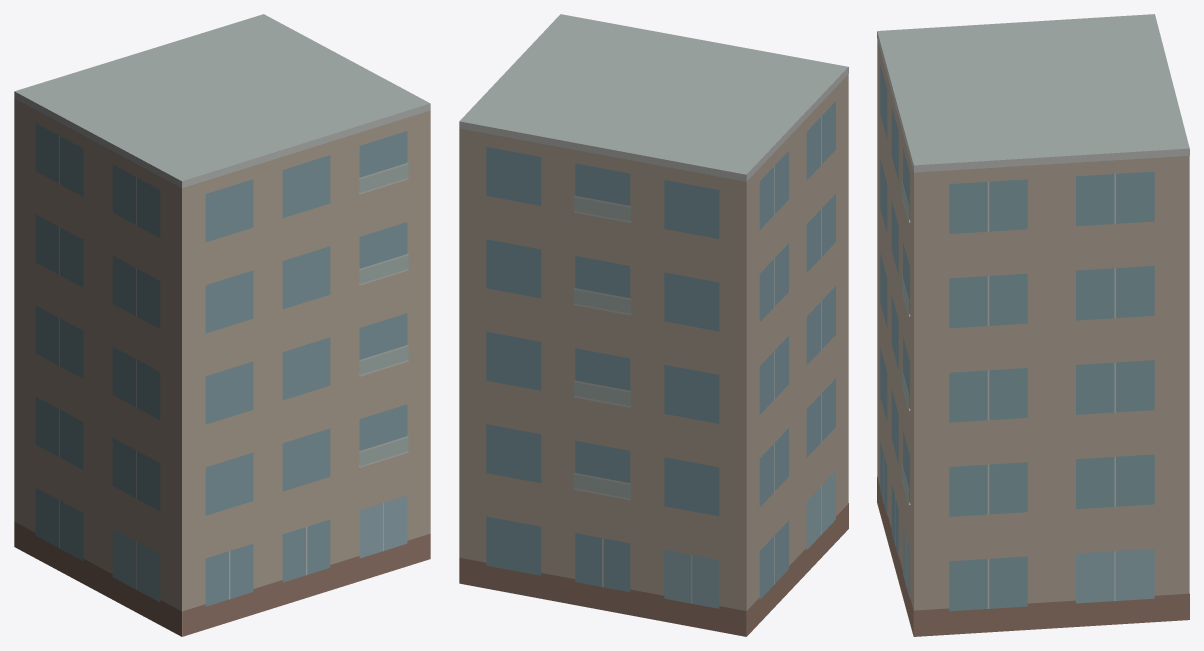
The model's file is survey-upis-32768679.glb.
3 renders of one model, left to right at view 1: azimuth 30°, elevation 25°; view 2: azimuth 150°, elevation 25°; view 3: azimuth 270°, elevation 25°, orthographic. The views are drawn at different scales.
Parts seen in each view (by area): view 1: survey-upis-32768679.tmp; view 2: survey-upis-32768679.tmp; view 3: survey-upis-32768679.tmp.
Boxes of the visible parts, x1,y1,x2,y2 form: survey-upis-32768679.tmp: (14,14,430,636); survey-upis-32768679.tmp: (459,14,848,636); survey-upis-32768679.tmp: (877,14,1189,636).
Size of the model in its own units: 11.03 by 16 by 9.63.
